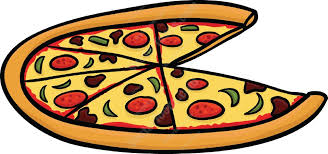pizza: (4, 4, 328, 149)
